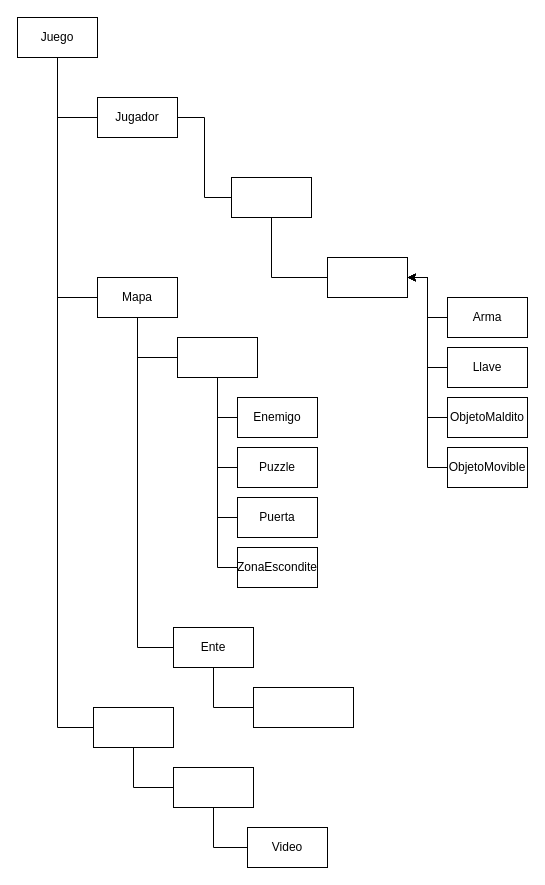
Image size: 545x885. Some labels were removed from this diagram. Each missing label, with the centre of its shape:
"Cinematica" goes at [213,787].
"Habitacion" goes at [217,357].
"Inventario" goes at [271,197].
"Objeto" goes at [367,277].
"Pista" goes at [133,727].
"PuntoGuardado" goes at [303,707].
